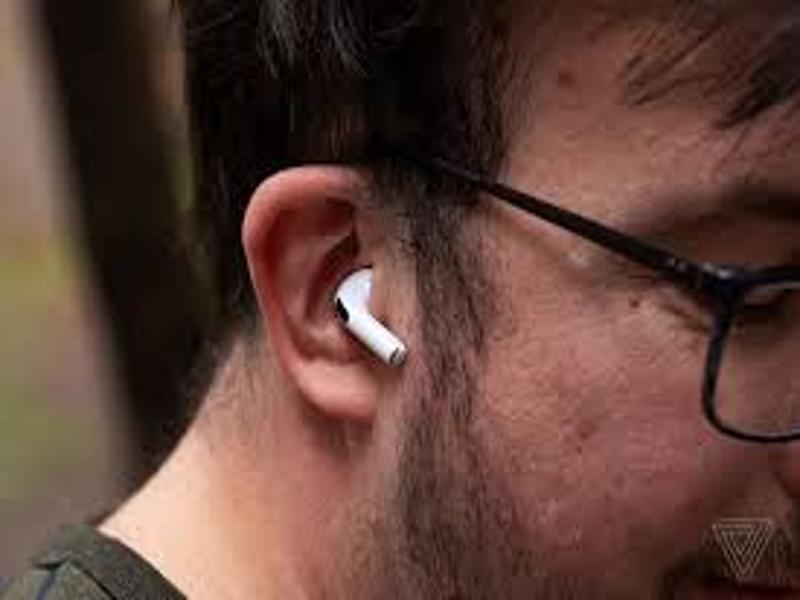headphone: (333, 267, 419, 367)
